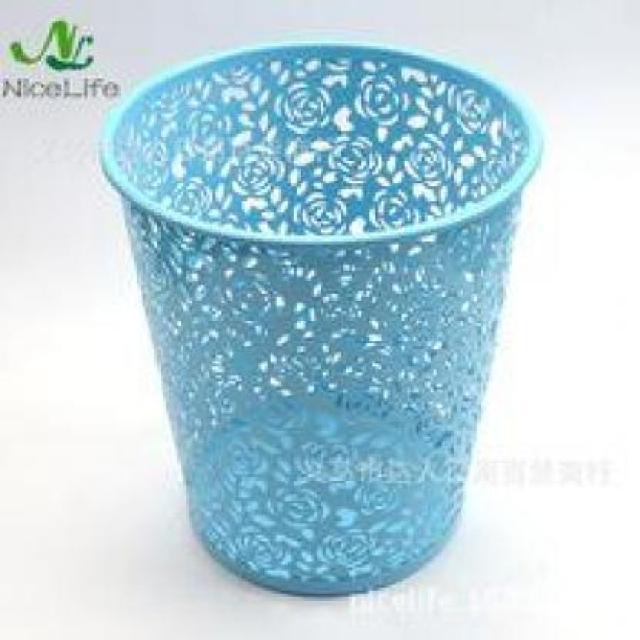dustbin: (94, 32, 550, 602)
